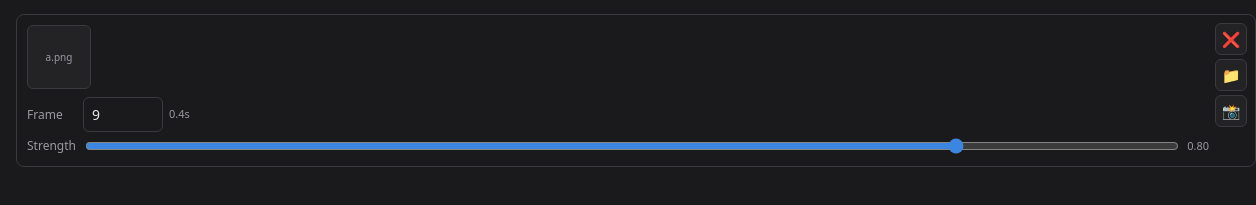
KeyframeCard › typing a FRAME value shows a willLandAt hint and commits the resolved value on Enter
Replace the text in the number field labelled "Frame 0.4s" with "20": coordinates (123, 114) 83,97 -> 163,132
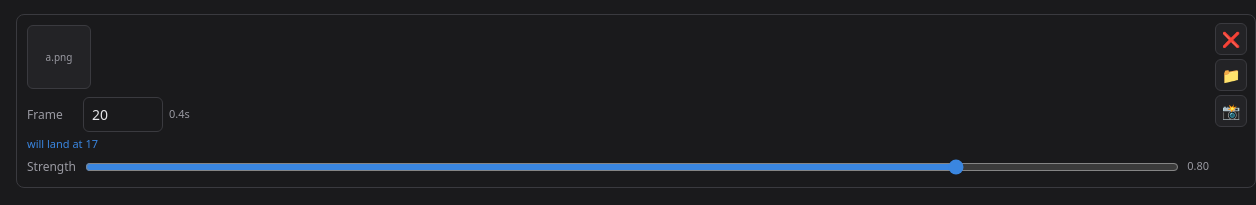
expect the text "will land at 17" is shown: met, box 27,136 -> 98,151
Press Enter in the number field labelled "Frame 0.4s", box 83,97 -> 163,132
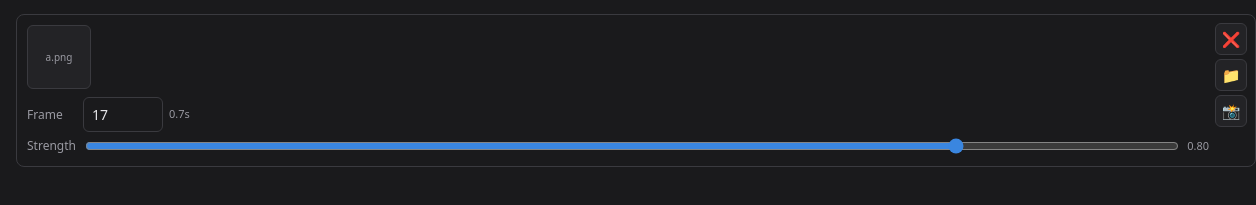
expect the number field labelled "Frame 0.7s" holds "17": met, box 83,97 -> 163,132
